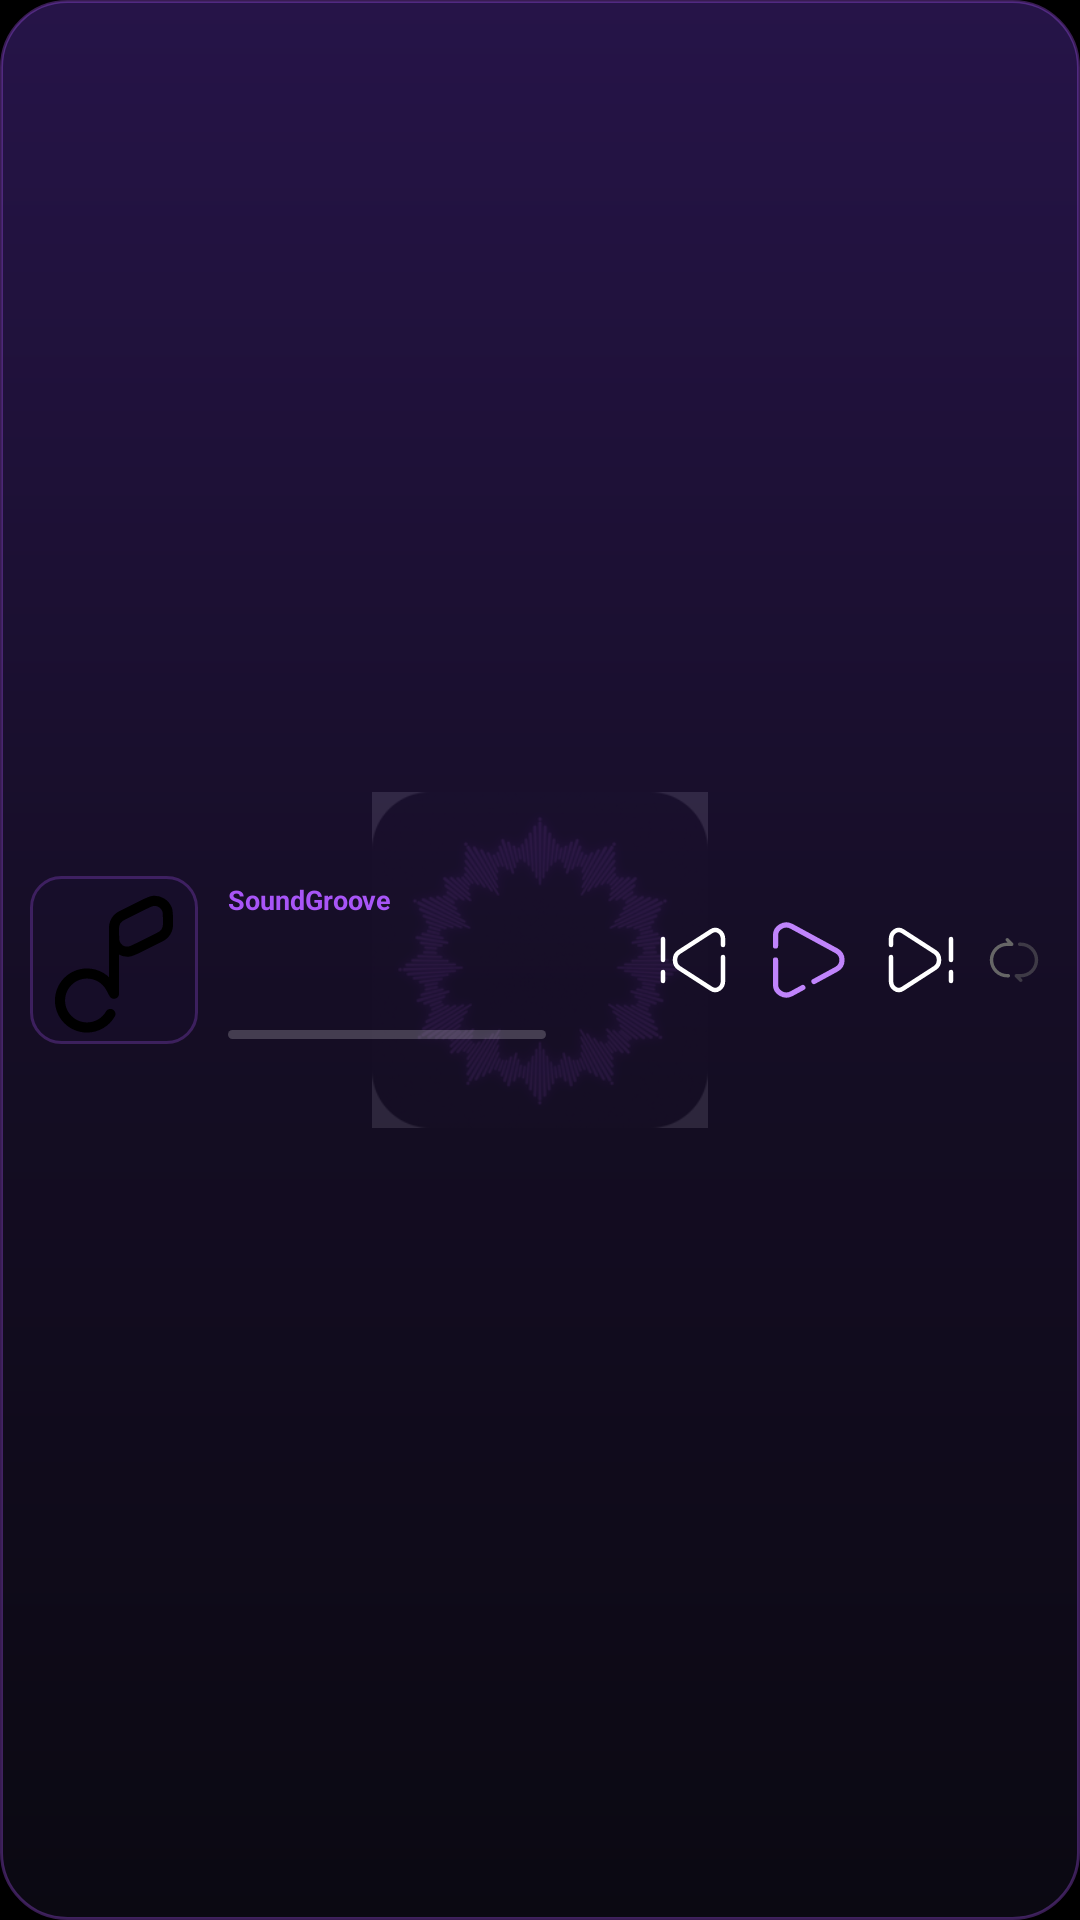

Where icons sit on this 1080*1920 app screen, as [x1=x1, y1=y1, x2=x2, y2=y2]:
Lecture / Pause: [x1=773, y1=922, x2=845, y2=998]
Piste précédente: [x1=642, y1=909, x2=726, y2=1009]
Piste suivante: [x1=888, y1=927, x2=954, y2=993]
Pochette album: [x1=33, y1=879, x2=195, y2=1041]
Répétition: [x1=990, y1=938, x2=1038, y2=982]
